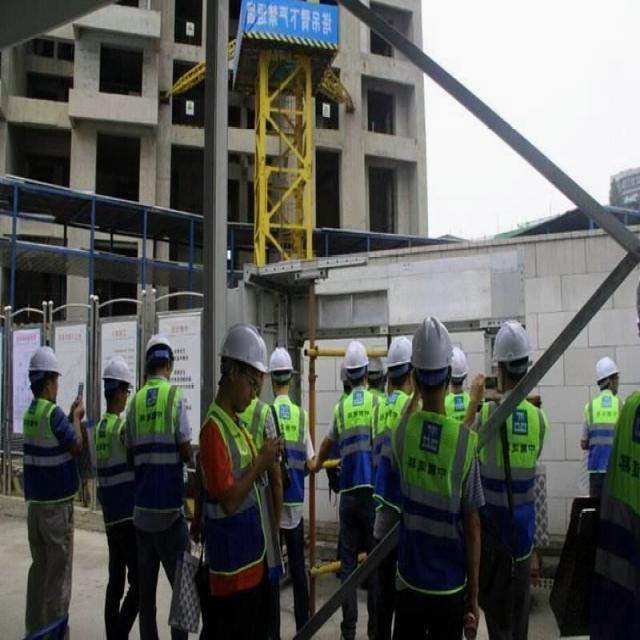hand_noglove: (255, 428, 282, 474), (66, 396, 88, 429)
head_helmet: (217, 321, 273, 374), (410, 316, 453, 374), (492, 320, 535, 360), (142, 333, 176, 368), (27, 345, 65, 375), (100, 355, 134, 386), (342, 339, 370, 373), (266, 346, 296, 373), (593, 354, 621, 382), (386, 338, 412, 366), (448, 349, 469, 379)
person: (389, 312, 482, 627), (567, 266, 639, 638), (193, 323, 275, 638), (473, 309, 551, 640), (16, 340, 82, 636), (130, 329, 190, 640), (328, 339, 378, 635), (262, 339, 308, 624), (94, 356, 136, 634), (370, 321, 412, 507), (574, 350, 628, 485), (442, 328, 474, 425)
vest: (386, 412, 474, 586), (478, 400, 543, 559), (594, 401, 639, 612), (200, 413, 258, 573), (127, 379, 179, 512), (19, 401, 80, 510), (331, 383, 380, 495), (580, 386, 627, 476), (268, 394, 306, 504), (93, 413, 131, 518), (374, 388, 408, 486), (242, 400, 274, 447)
